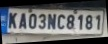character: (18, 12, 27, 29), (28, 12, 37, 29), (8, 12, 17, 28), (47, 13, 56, 29), (66, 14, 75, 29), (38, 13, 46, 29), (57, 13, 65, 29), (85, 14, 93, 30), (77, 14, 84, 30), (95, 14, 101, 30)
